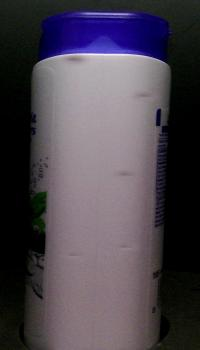dent_marginal: (111, 236, 145, 263), (53, 245, 89, 264), (122, 87, 159, 105), (110, 166, 134, 185), (62, 54, 88, 68)
